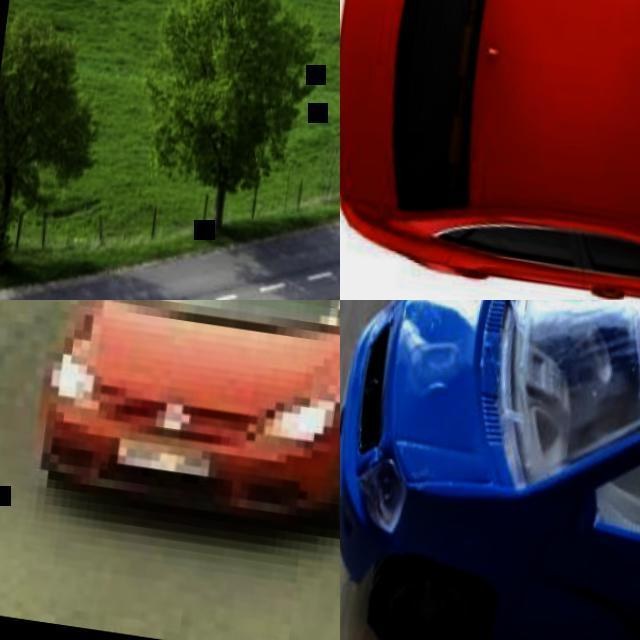car: (338, 272, 639, 639), (339, 0, 640, 291), (30, 300, 341, 522)
